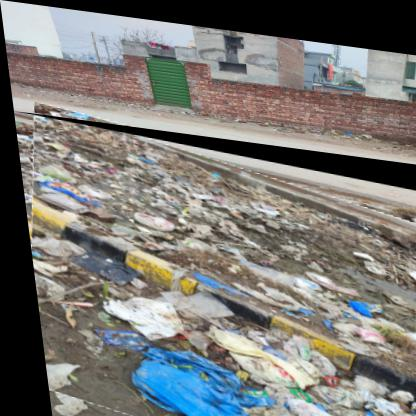Garbage: (12, 112, 416, 416)
